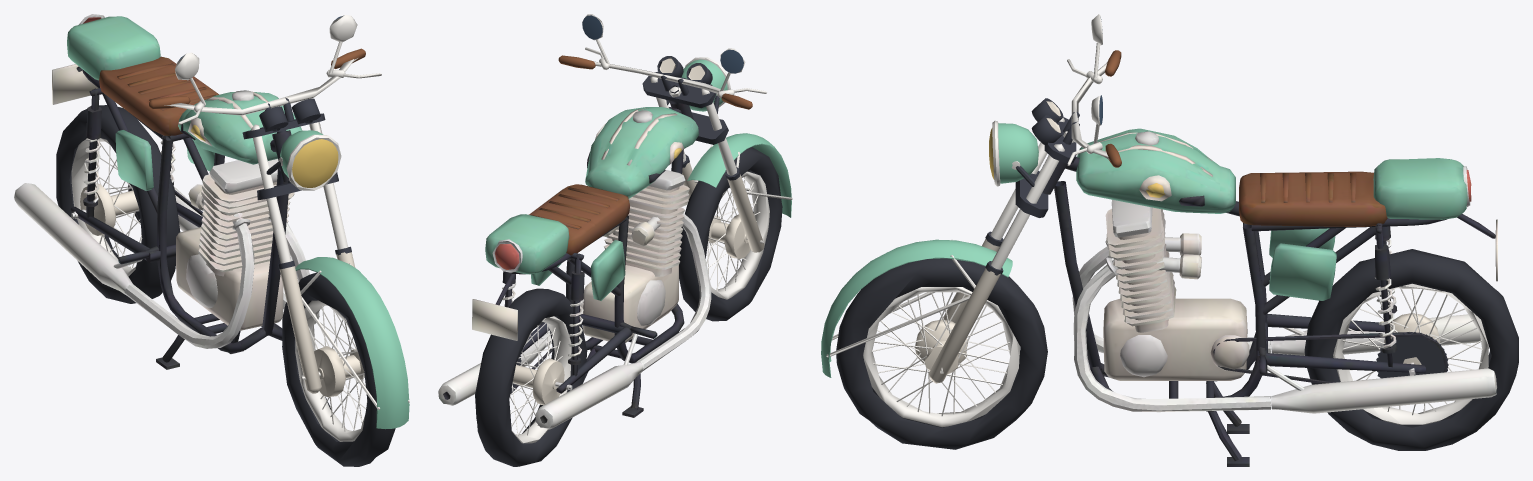
File: motorcycle.glb
3 views of the same model, side by side, from view 1: azimuth 30°, elevation 25°; view 2: azimuth 150°, elevation 25°; view 3: azimuth 270°, elevation 25° (orthographic). The views are drawn at different scales.
Parts seen in each view (by area): view 1: motorcycle_body, motorcycle_steering, motorcycle_wheel_front; view 2: motorcycle_body, motorcycle_steering, motorcycle_wheel_front; view 3: motorcycle_body, motorcycle_steering, motorcycle_wheel_front.
Part boxes in pixels (x1,y1,x2,y2): motorcycle_body: (14, 14, 319, 369); motorcycle_steering: (71, 15, 409, 441); motorcycle_wheel_front: (56, 105, 395, 466); motorcycle_body: (438, 100, 711, 429); motorcycle_steering: (510, 14, 792, 443); motorcycle_wheel_front: (475, 147, 782, 466); motorcycle_body: (1035, 128, 1497, 466); motorcycle_steering: (821, 14, 1488, 427); motorcycle_wheel_front: (836, 249, 1518, 450).
Size of the model in its own units: 0.7964 by 1.31 by 2.11.
9 materials, 1 textured.
